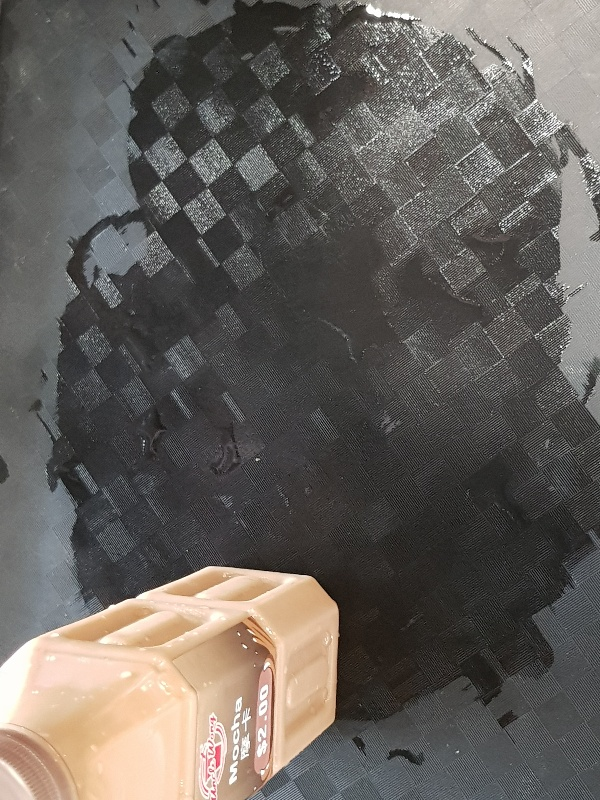Mocha: (1, 563, 341, 800)
